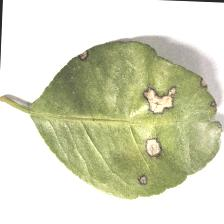canker: (68, 44, 224, 194)
